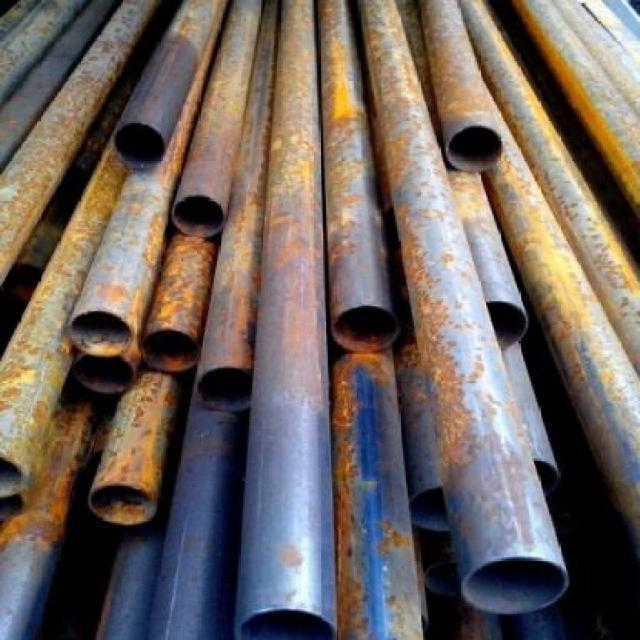corrosion: (6, 2, 640, 636)
